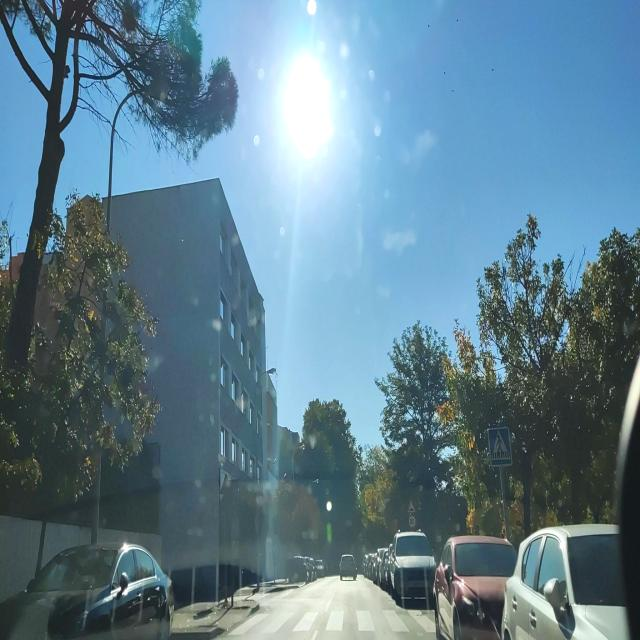car: (2, 541, 175, 637), (502, 521, 634, 638), (433, 533, 518, 640), (392, 531, 437, 608), (285, 555, 309, 584), (340, 553, 358, 581), (378, 547, 389, 588), (374, 547, 385, 586), (304, 555, 318, 581), (314, 557, 326, 577)
